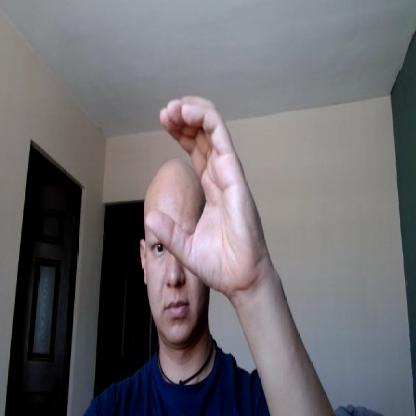C: (146, 93, 258, 293)
